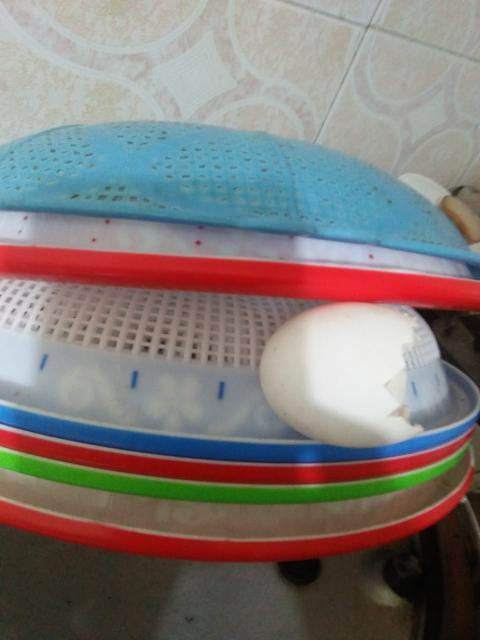Roto: (259, 301, 423, 449)
